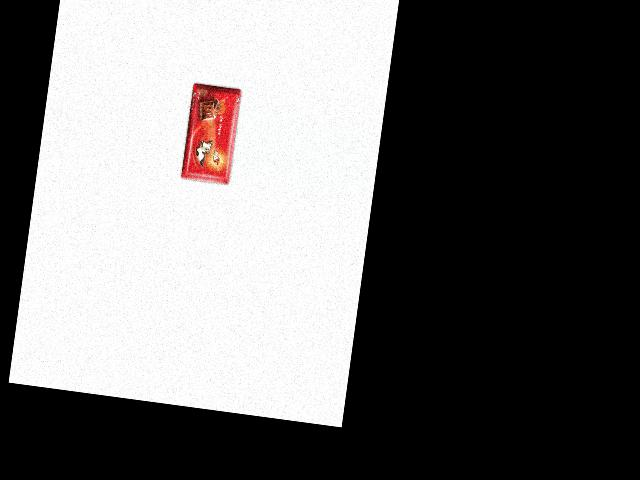chocolate: (176, 81, 242, 190)
